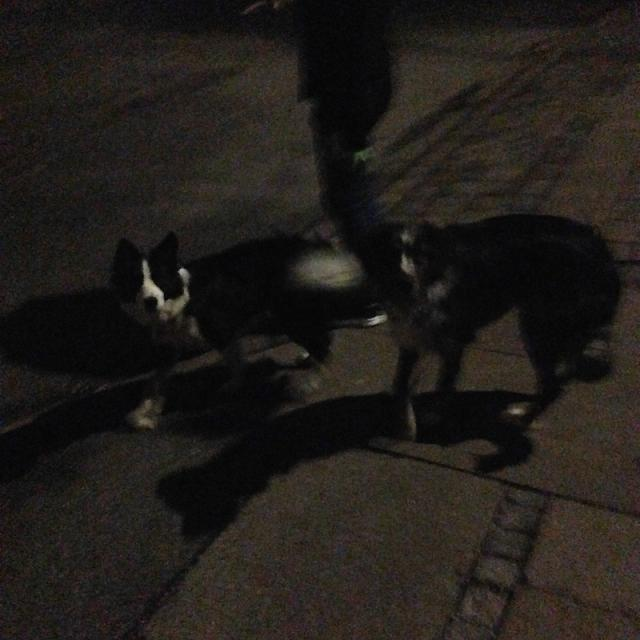dog: (340, 182, 640, 445), (121, 234, 331, 366)
